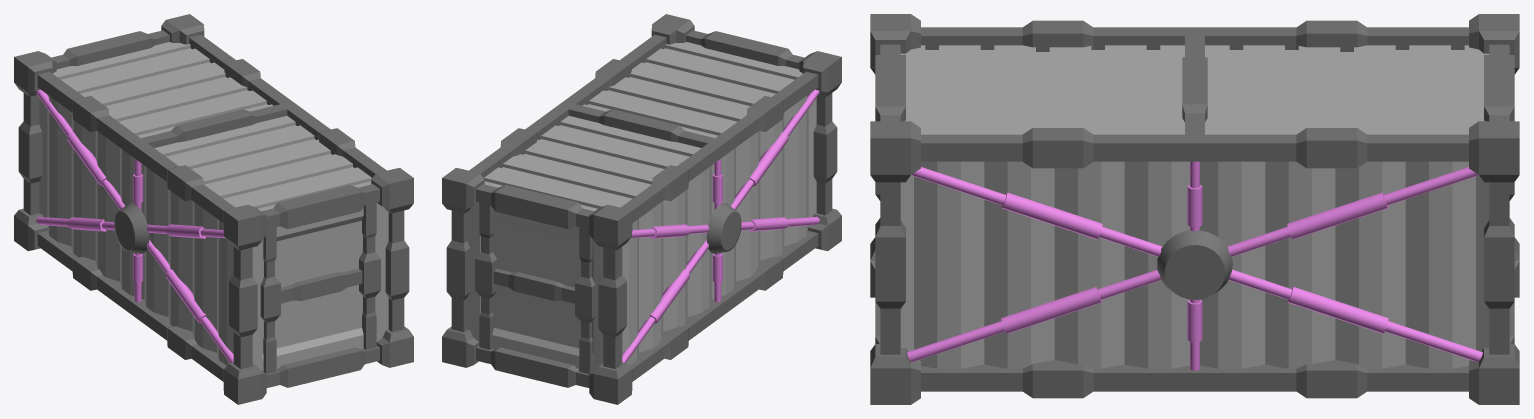
Rendered from Container2.fbx.
3 renders of one model, left to right at view 1: azimuth 30°, elevation 25°; view 2: azimuth 150°, elevation 25°; view 3: azimuth 270°, elevation 25°, orthographic. The views are drawn at different scales.
Visible parts, largest first — view 1: Cargo_Crate; view 2: Cargo_Crate; view 3: Cargo_Crate.
Part boxes in pixels (box(x1,y1,x2,y2)): Cargo_Crate: box(14, 14, 413, 404); Cargo_Crate: box(442, 14, 841, 404); Cargo_Crate: box(870, 14, 1519, 404).
Size of the model in its own units: 588 by 580 by 1280.
